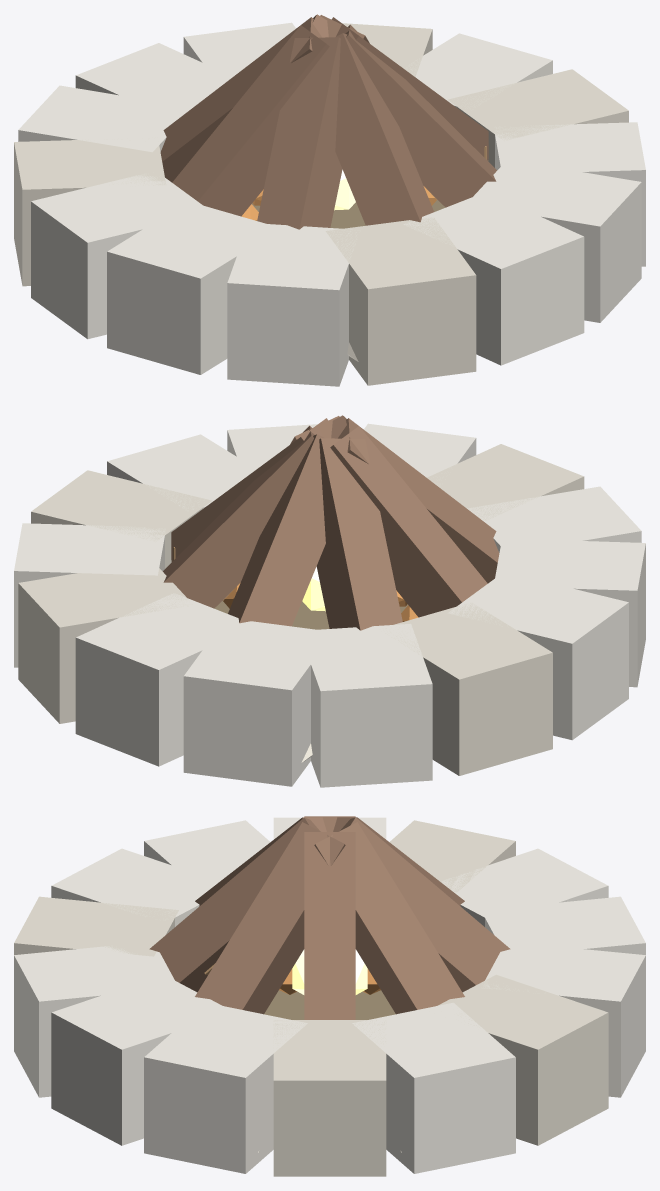
File: campfire-stone.glb
The picture shows the model from 3 angles, top to bottom: view 1: azimuth 30°, elevation 25°; view 2: azimuth 150°, elevation 25°; view 3: azimuth 270°, elevation 25°; orthographic projection.
Parts seen in each view (by area): view 1: campfire_stone_stone_light, campfire_stone_wood_dark, campfire_stone_stone, campfire_stone_soil; view 2: campfire_stone_stone_light, campfire_stone_wood_dark, campfire_stone_stone, campfire_stone_soil, campfire_stone_glow; view 3: campfire_stone_stone_light, campfire_stone_wood_dark, campfire_stone_stone, campfire_stone_soil, campfire_stone_glow.
Part boxes in pixels (x1,y1,x2,y2): campfire_stone_stone_light: (18,22,645,386); campfire_stone_wood_dark: (160,14,496,229); campfire_stone_stone: (14,23,628,385); campfire_stone_soil: (252,200,445,228); campfire_stone_stone_light: (14,423,645,787); campfire_stone_wood_dark: (163,415,499,630); campfire_stone_stone: (18,444,584,775); campfire_stone_soil: (214,601,407,629); campfire_stone_glow: (302,566,325,611); campfire_stone_stone_light: (14,817,645,1173); campfire_stone_wood_dark: (149,816,510,1019); campfire_stone_stone: (14,820,608,1176); campfire_stone_soil: (264,990,395,1019); campfire_stone_glow: (292,950,367,994).
Bounding box in the file's own units: 1.82 × 0.7766 × 1.85.
